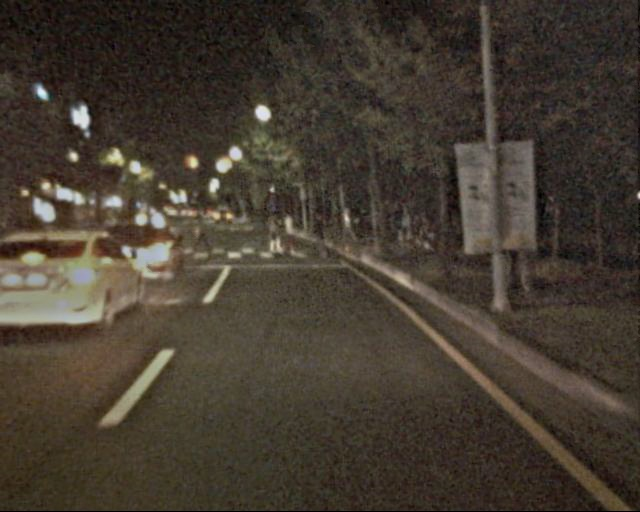person: (366, 203, 417, 245), (187, 204, 209, 257), (277, 208, 298, 258), (309, 208, 329, 255), (262, 210, 283, 254), (446, 203, 465, 250)
